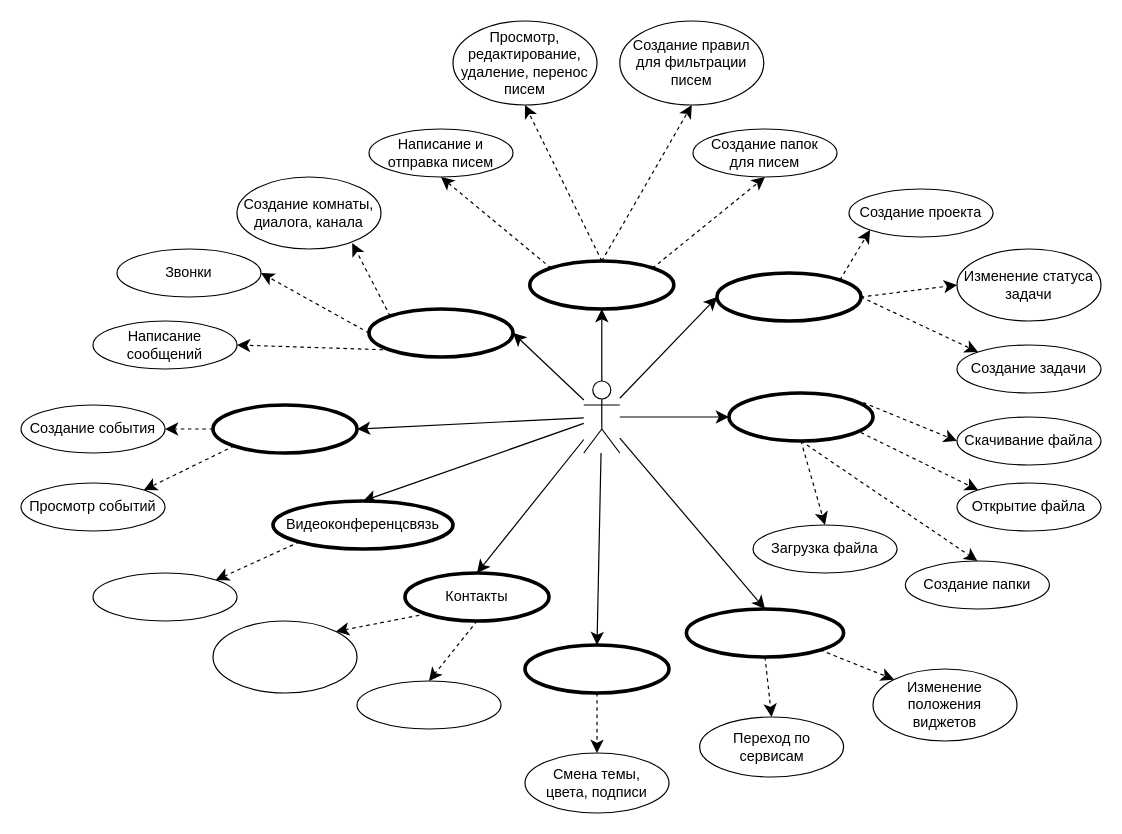
The diagram is 1122 pixels wide and 834 high, and some of its shapes have lost their labels. The centre of each missing label's shape, as x and y in pixels:
"Заведение и удаление контактов" belongs at [284,656].
"Календарь" belongs at [284,428].
"Настройки" belongs at [596,668].
"Панель управления" belongs at [764,632].
"Поделиться контактом" belongs at [428,704].
"Почта" belongs at [601,284].
"Проекты" belongs at [788,296].
"Разговоры" belongs at [440,332].
"Сотрудник" belongs at [601,416].
"Участие в совещаниях" belongs at [164,596].
"Файлы" belongs at [800,416].
